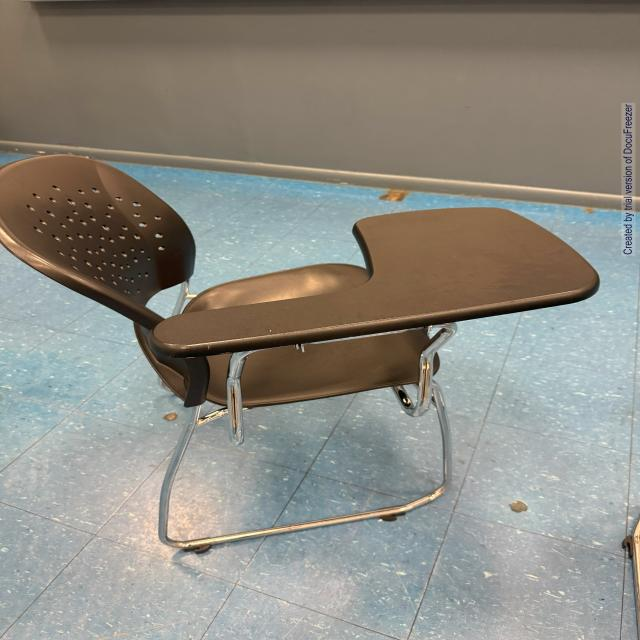chair: (3, 136, 600, 556)
